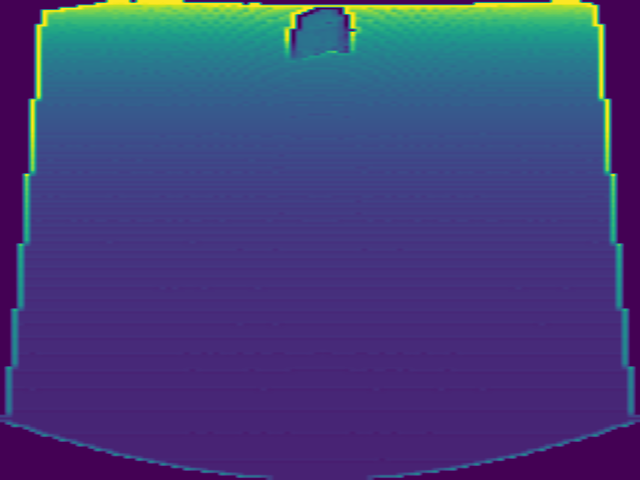car_0027: (284, 6, 359, 58)
